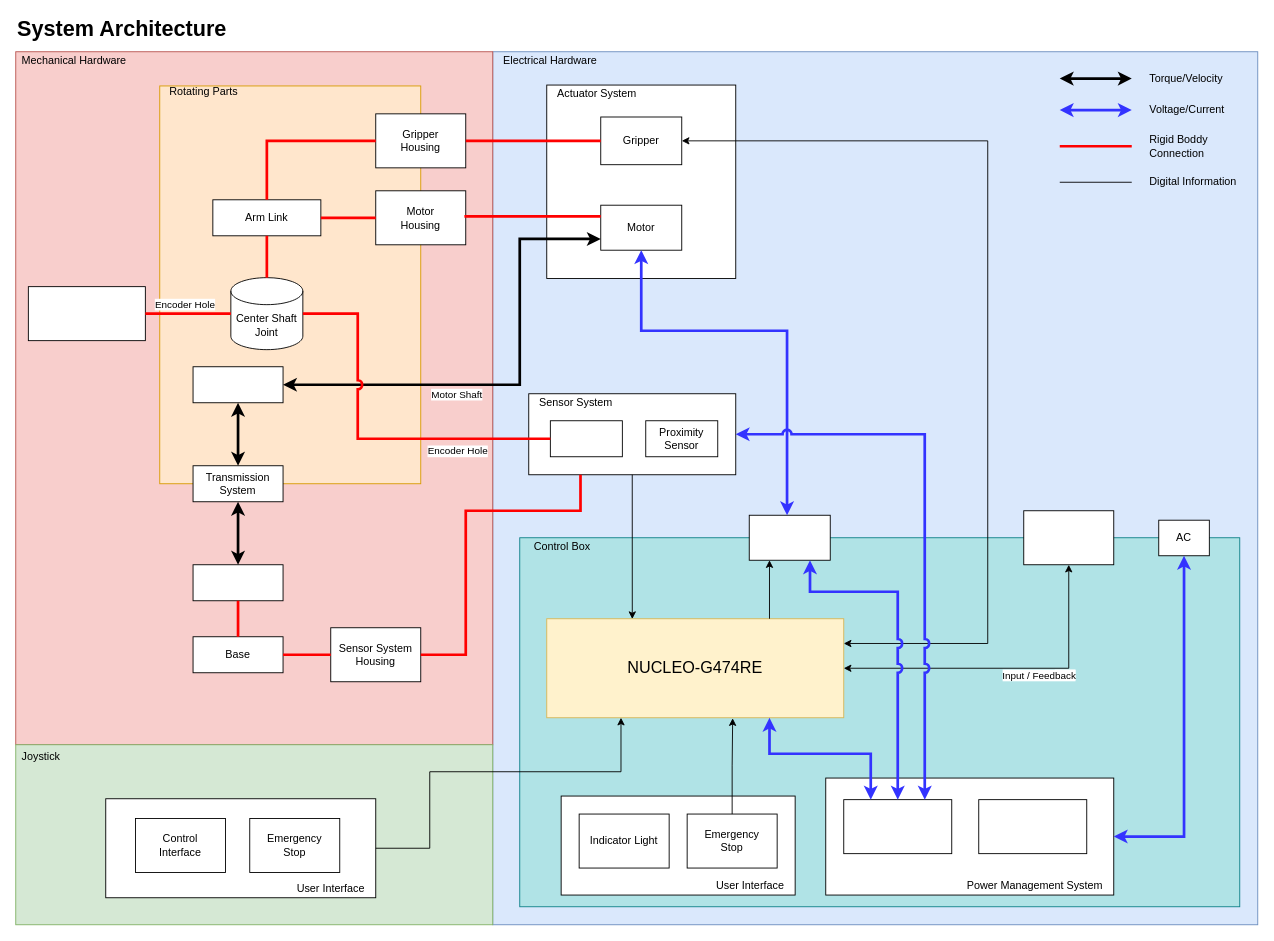
The diagram is 1274 pixels wide and 941 high, and some of its shapes have lost their labels. The shapes that lost their labels are listed below. From the top down, each one's box as (x1, y1, x2, y2) in pixels, then its label:
(27, 286, 145, 341): Testing Encoder (For Perfermance Test)
(192, 366, 283, 403): Pulley #2
(549, 420, 622, 457): Encoder
(748, 514, 830, 560): Motor Driver
(1023, 510, 1114, 565): Base System (Computer)
(192, 564, 283, 601): Pulley #1
(843, 799, 952, 854): Power Supply Unit
(978, 799, 1087, 854): Power Safety Unit
